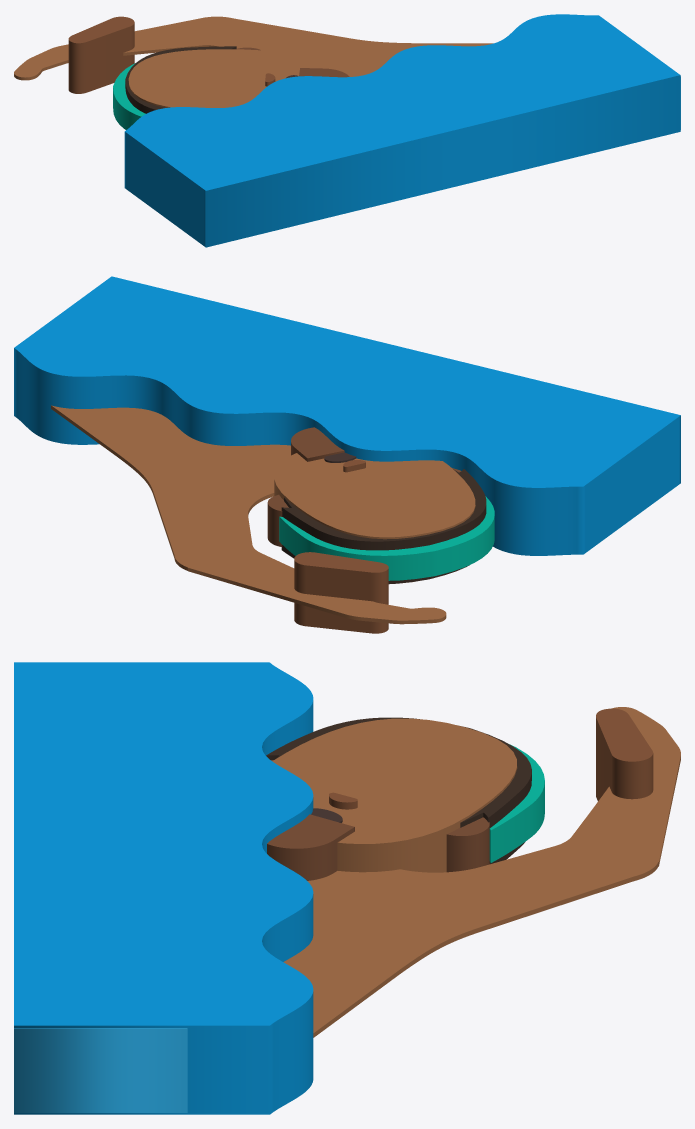
File: emoji_u1f3ca_1f3fe_200d_2642.glb
3 views of the same model, one above another, from view 1: azimuth 30°, elevation 25°; view 2: azimuth 150°, elevation 25°; view 3: azimuth 270°, elevation 25° (orthographic). The views are drawn at different scales.
Visible parts, largest first — view 1: emoji_u1f3ca_1f3fe_200d_2642; view 2: emoji_u1f3ca_1f3fe_200d_2642; view 3: emoji_u1f3ca_1f3fe_200d_2642.
Boxes of the visible parts, bbox=[...] form: emoji_u1f3ca_1f3fe_200d_2642: bbox=[14, 14, 680, 247]; emoji_u1f3ca_1f3fe_200d_2642: bbox=[14, 276, 680, 633]; emoji_u1f3ca_1f3fe_200d_2642: bbox=[14, 662, 680, 1114].
Size of the model in its own units: 0.0333 by 0.0038 by 0.0258.
